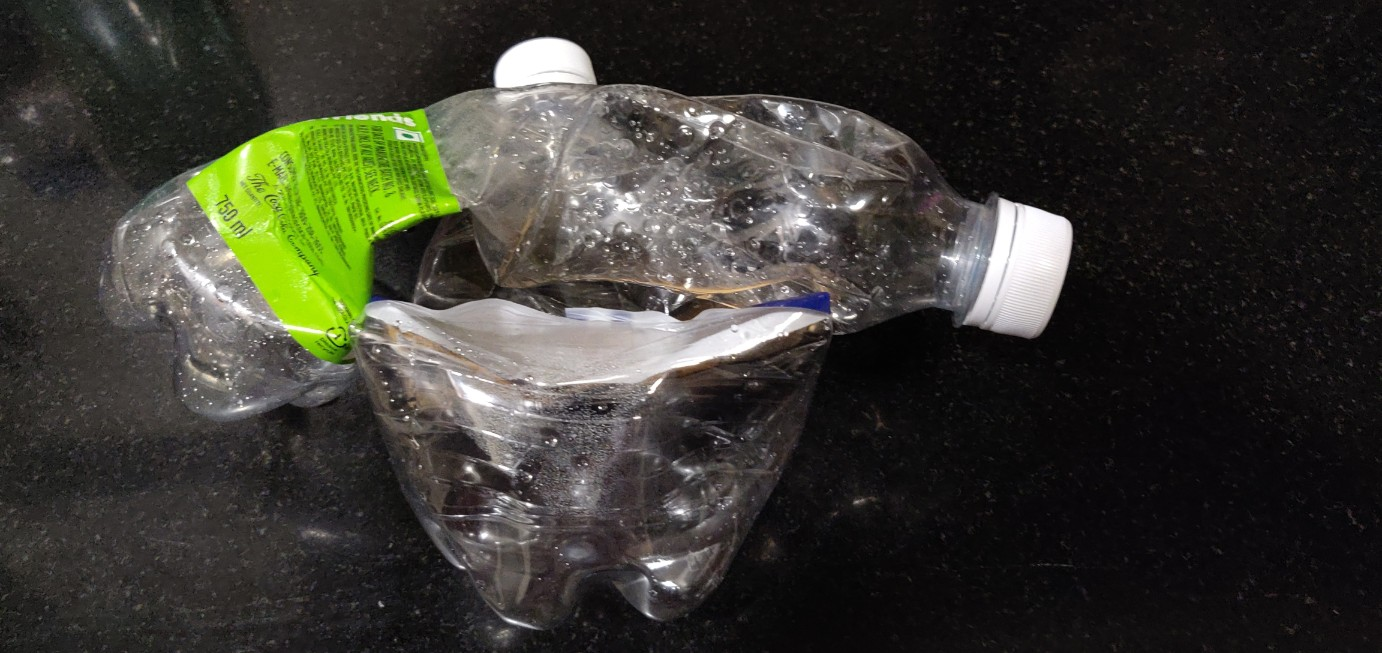Electronics: (70, 69, 1095, 458), (329, 5, 884, 641)
